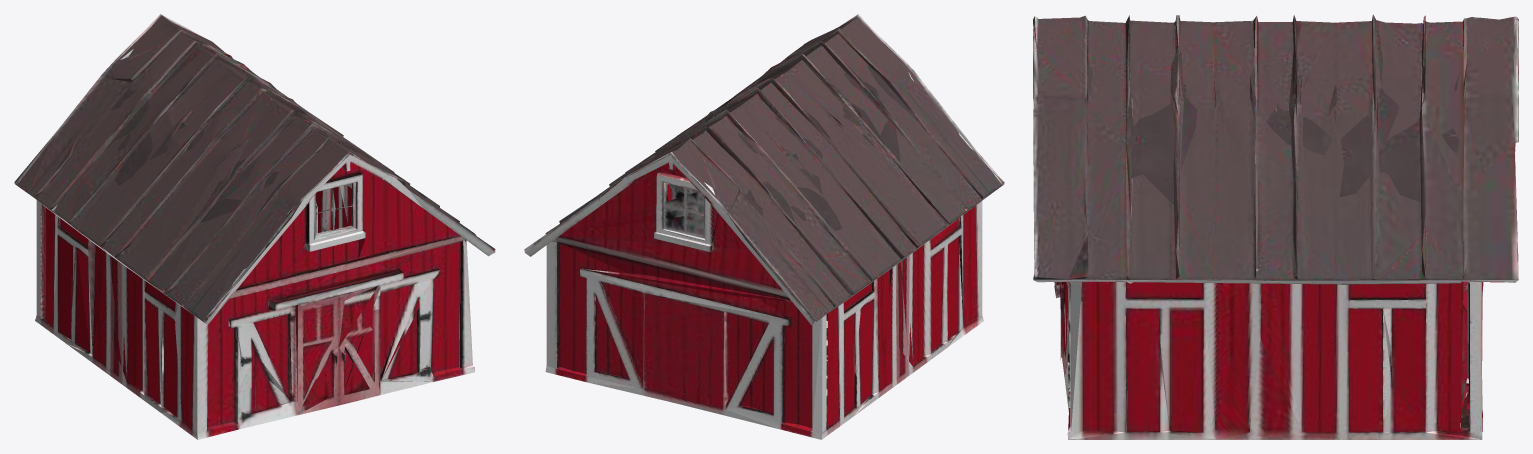
Rendered from barn.glb.
3 renders of one model, left to right at view 1: azimuth 30°, elevation 25°; view 2: azimuth 150°, elevation 25°; view 3: azimuth 270°, elevation 25°, orthographic. The views are drawn at different scales.
Parts seen in each view (by area): view 1: output_unwrapped; view 2: output_unwrapped; view 3: output_unwrapped.
Boxes of the visible parts, x1=… form: output_unwrapped: x1=14, y1=14, x2=495, y2=439; output_unwrapped: x1=524, y1=14, x2=1004, y2=439; output_unwrapped: x1=1033, y1=14, x2=1518, y2=439.
Bounding box in the file's own units: 1.7 × 1.46 × 1.9.
1 material, 1 textured.
